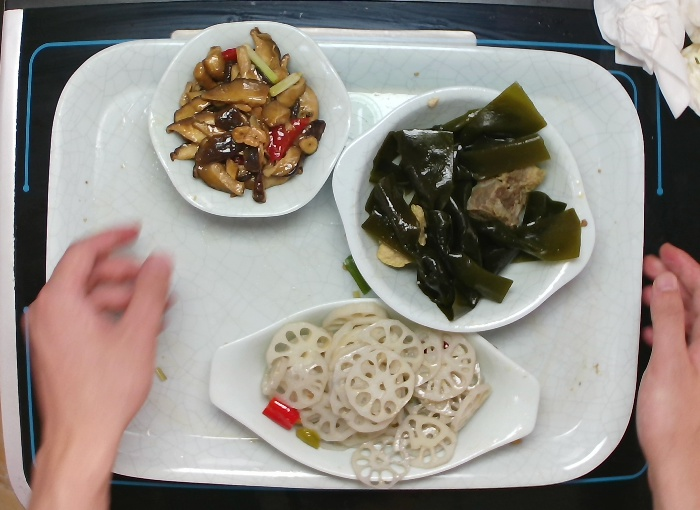JYsf-Shuang_Er_Wan: (332, 83, 595, 336)
JYsf-Yu_Pan: (210, 298, 538, 485)
WCQzf-Hua_Duo_Wan: (146, 18, 351, 220)
